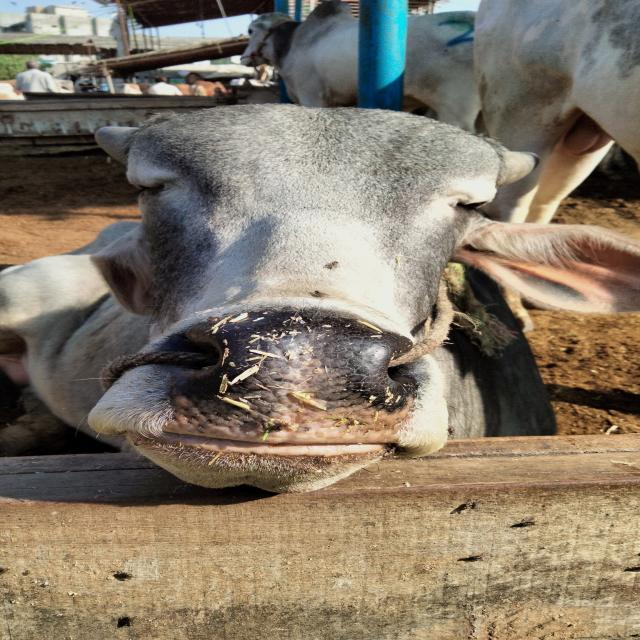muzzles: (142, 306, 444, 461)
